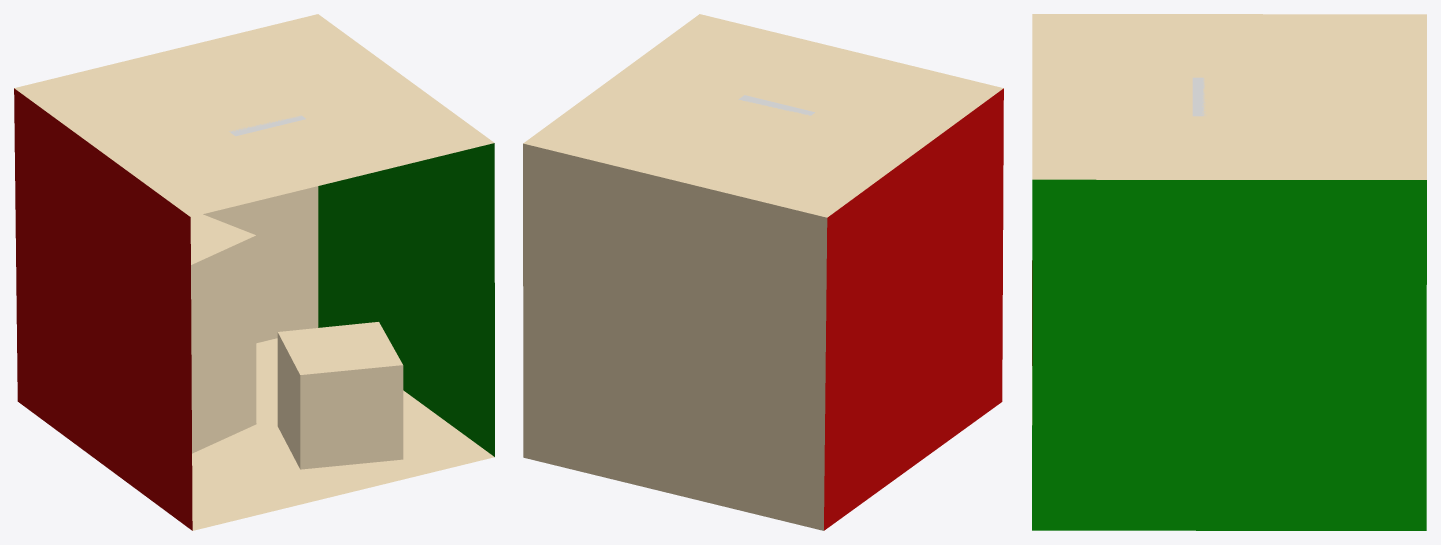
File: cornell-box.dae
3 renders of one model, left to right at view 1: azimuth 30°, elevation 25°; view 2: azimuth 150°, elevation 25°; view 3: azimuth 270°, elevation 25°, orthographic. The views are drawn at different scales.
Visible parts, largest first — view 1: left_wall, ceiling, right_wall, floor, short_box, tall_box, back_wall; view 2: back_wall, left_wall, ceiling; view 3: right_wall, ceiling, area_light.
Boxes of the visible parts, x1=… form: left_wall: x1=14, y1=88, x2=192, y2=530; ceiling: x1=14, y1=14, x2=494, y2=216; right_wall: x1=318, y1=143, x2=494, y2=456; floor: x1=192, y1=338, x2=494, y2=530; short_box: x1=277, y1=322, x2=403, y2=469; tall_box: x1=190, y1=214, x2=256, y2=453; back_wall: x1=203, y1=186, x2=318, y2=343; back_wall: x1=523, y1=143, x2=827, y2=530; left_wall: x1=824, y1=88, x2=1003, y2=530; ceiling: x1=523, y1=14, x2=1003, y2=217; right_wall: x1=1032, y1=179, x2=1426, y2=530; ceiling: x1=1032, y1=14, x2=1426, y2=179; area_light: x1=1192, y1=77, x2=1206, y2=116.
Bounding box in the file's own units: 5.56 × 5.6 × 5.49.
